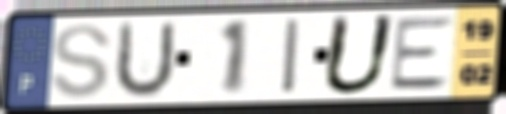1: (216, 17, 253, 98)
E: (387, 13, 458, 93)
I: (281, 16, 303, 97)
S: (49, 21, 115, 101)
U: (318, 13, 401, 97), (109, 18, 178, 101)
